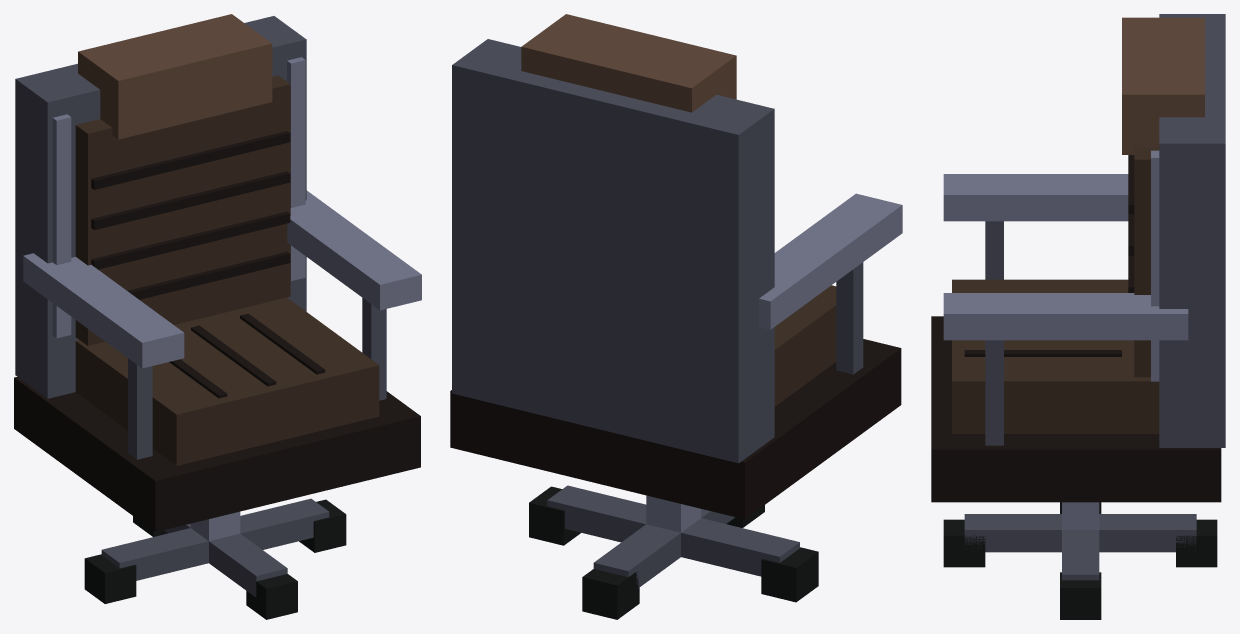
Rendered from CMU3DComfyChairBrown.glb.
3 views of the same model, side by side, from view 1: azimuth 30°, elevation 25°; view 2: azimuth 150°, elevation 25°; view 3: azimuth 270°, elevation 25° (orthographic). The views are drawn at different scales.
Parts seen in each view (by area): view 1: back cushion, seat cushion, seat base, back shell, headrest, upholstery rib (×4), left arm pad, right arm pad, back edge piping (×2), caster cross X, caster wheel (×3), arm front stanchion (×2) (+3 smaller); view 2: back shell, seat base, headrest, left arm pad, caster cross X, caster wheel (×3), seat cushion, caster cross Y, arm front stanchion, chrome swivel stem; view 3: back shell, seat base, seat cushion, right arm pad, headrest, left arm pad, caster cross Y, caster wheel (×3), back cushion, arm front stanchion (×2), caster cross X, back edge piping (+3 smaller).
Part boxes in pixels (left/top/right/bottom): back cushion: left=75, top=75, right=290, bottom=345; seat cushion: left=75, top=297, right=379, bottom=465; seat base: left=14, top=377, right=420, bottom=531; back shell: left=15, top=16, right=306, bottom=398; headrest: left=78, top=14, right=272, bottom=139; upholstery rib (×4): left=91, top=131, right=290, bottom=299; left arm pad: left=23, top=253, right=184, bottom=368; right arm pad: left=287, top=190, right=421, bottom=310; back edge piping (×2): left=52, top=57, right=305, bottom=338; caster cross X: left=101, top=498, right=329, bottom=580; caster wheel (×3): left=84, top=499, right=346, bottom=619; arm front stanchion (×2): left=128, top=298, right=386, bottom=459; back shell: left=452, top=39, right=774, bottom=463; seat base: left=450, top=339, right=901, bottom=519; headrest: left=521, top=14, right=736, bottom=112; left arm pad: left=759, top=193, right=902, bottom=329; caster cross X: left=547, top=485, right=799, bottom=576; caster wheel (×3): left=529, top=486, right=818, bottom=619; seat cushion: left=774, top=285, right=836, bottom=406; caster cross Y: left=593, top=509, right=735, bottom=588; arm front stanchion: left=836, top=262, right=863, bottom=374; chrome swivel stem: left=646, top=495, right=701, bottom=532; back shell: left=1159, top=14, right=1225, bottom=447; seat base: left=931, top=316, right=1221, bottom=502; seat cushion: left=952, top=279, right=1159, bottom=433; right arm pad: left=943, top=293, right=1188, bottom=340; headrest: left=1122, top=17, right=1204, bottom=154; left arm pad: left=943, top=174, right=1128, bottom=221; caster cross Y: left=964, top=514, right=1196, bottom=552; caster wheel (×3): left=943, top=519, right=1217, bottom=619; back cushion: left=1134, top=147, right=1159, bottom=377; arm front stanchion (×2): left=985, top=221, right=1003, bottom=445; caster cross X: left=1062, top=530, right=1099, bottom=580; back edge piping: left=1151, top=150, right=1159, bottom=381.
Size of the model in its own units: 0.8 by 1.34 by 0.71.
